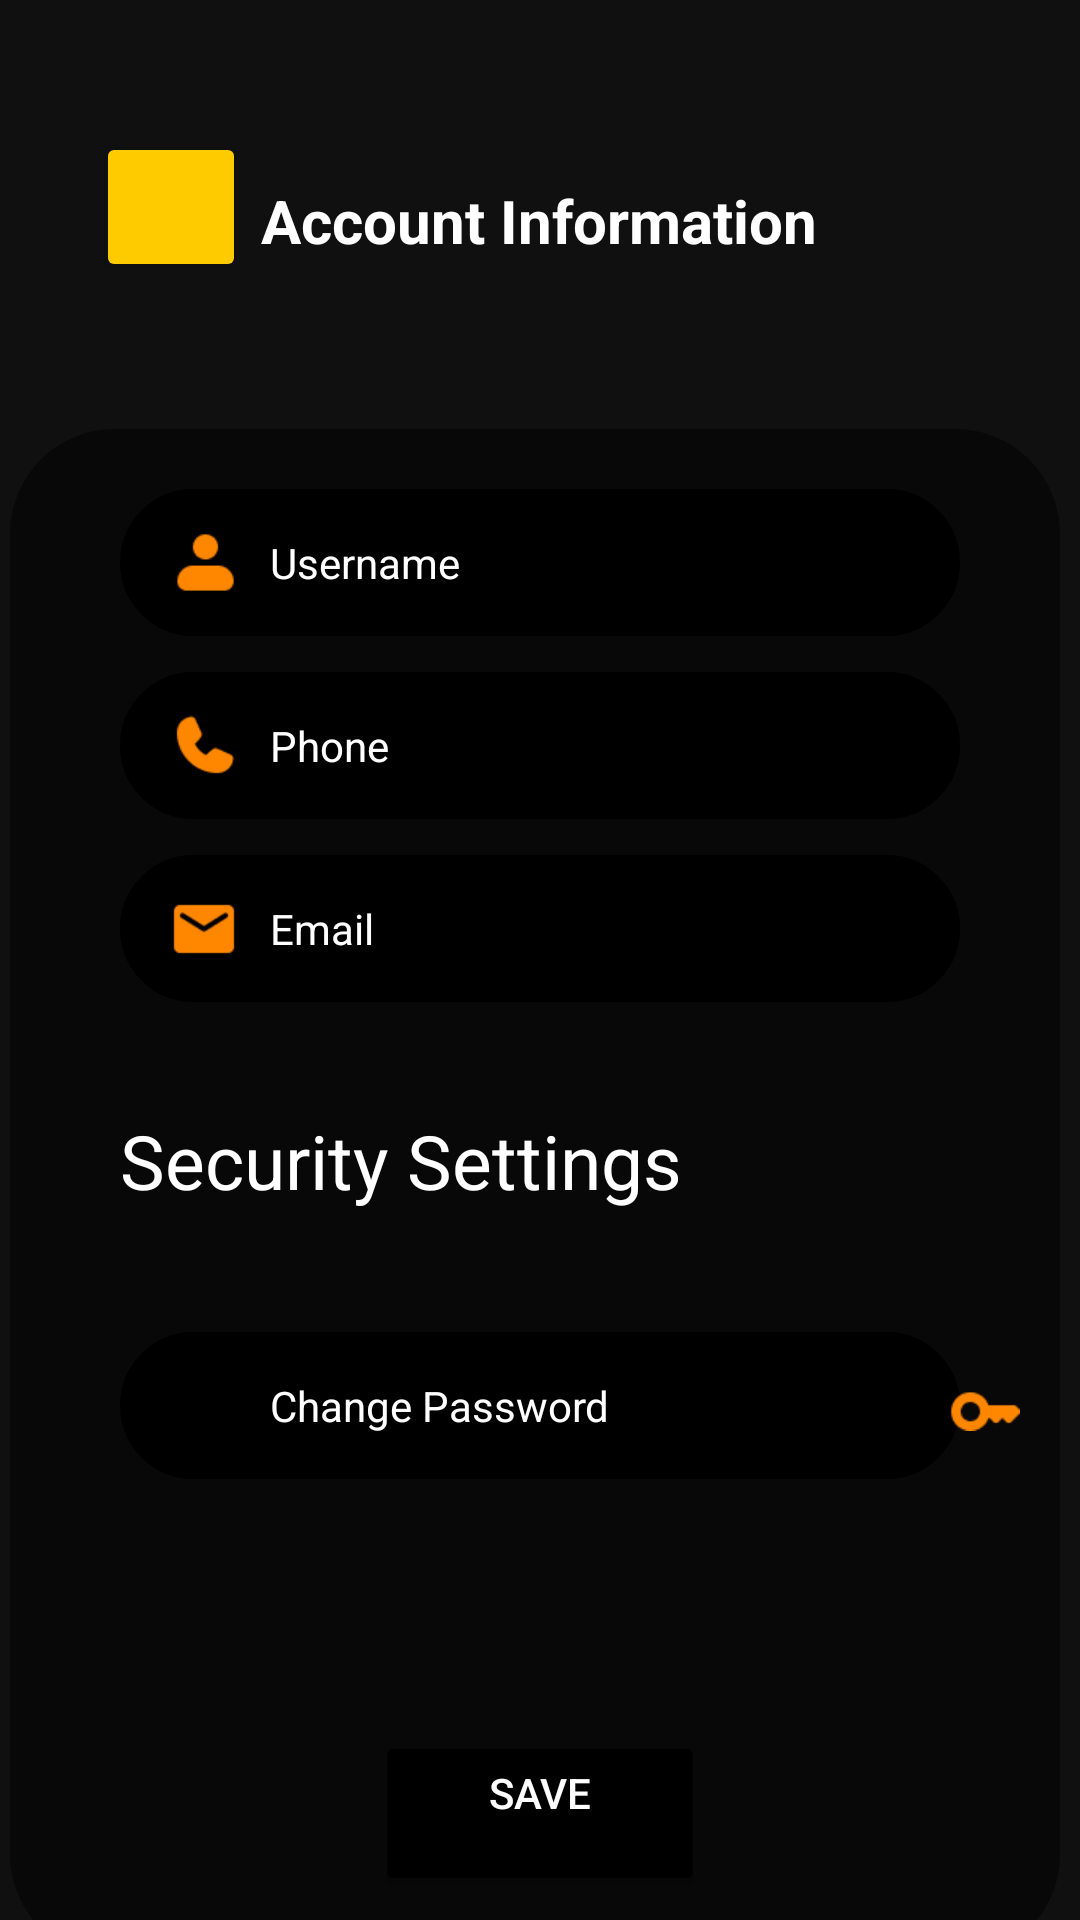

Point at icon controls on the screen. Image size 1080px×1920px, points as [x,y].
key: [985,1411]
